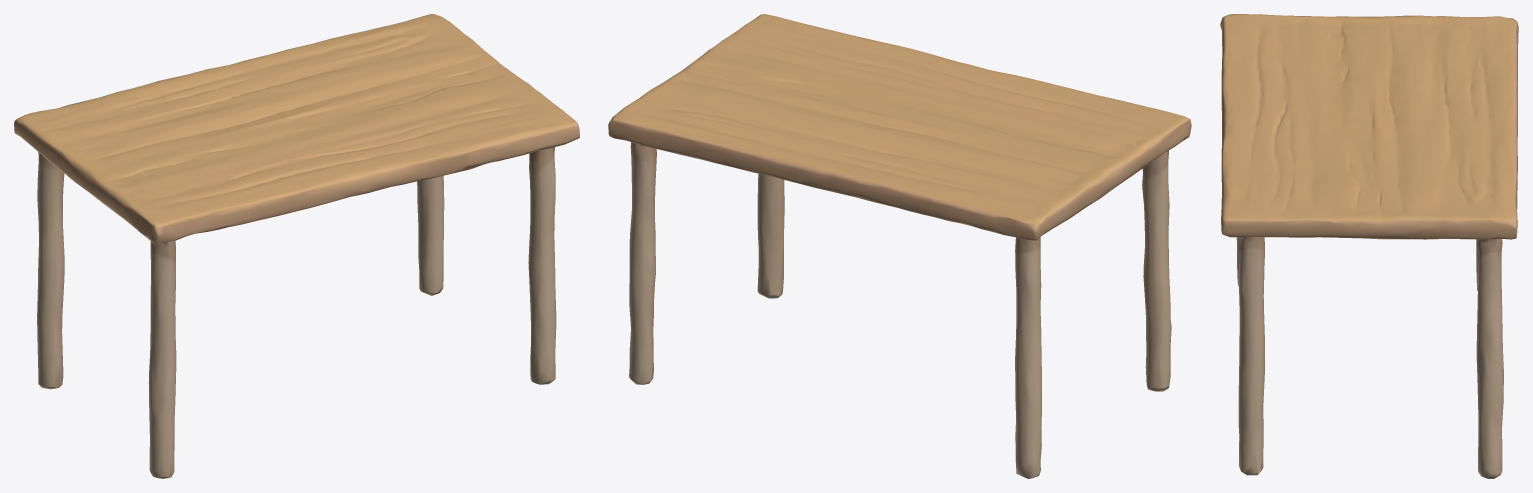
The model's file is table.glb.
The picture shows the model from 3 angles, left to right: view 1: azimuth 30°, elevation 25°; view 2: azimuth 150°, elevation 25°; view 3: azimuth 270°, elevation 25°; orthographic projection.
Visible parts, largest first — view 1: tripo_node_35da8c14-3775-4c72-84f4-5571cc7bd467; view 2: tripo_node_35da8c14-3775-4c72-84f4-5571cc7bd467; view 3: tripo_node_35da8c14-3775-4c72-84f4-5571cc7bd467.
Part boxes in pixels (x1,y1,x2,y2): tripo_node_35da8c14-3775-4c72-84f4-5571cc7bd467: (14, 14, 579, 478); tripo_node_35da8c14-3775-4c72-84f4-5571cc7bd467: (608, 14, 1191, 478); tripo_node_35da8c14-3775-4c72-84f4-5571cc7bd467: (1220, 14, 1518, 478).
Bounding box in the file's own units: 1 × 0.5951 × 0.6032.
1 material, 1 textured.
